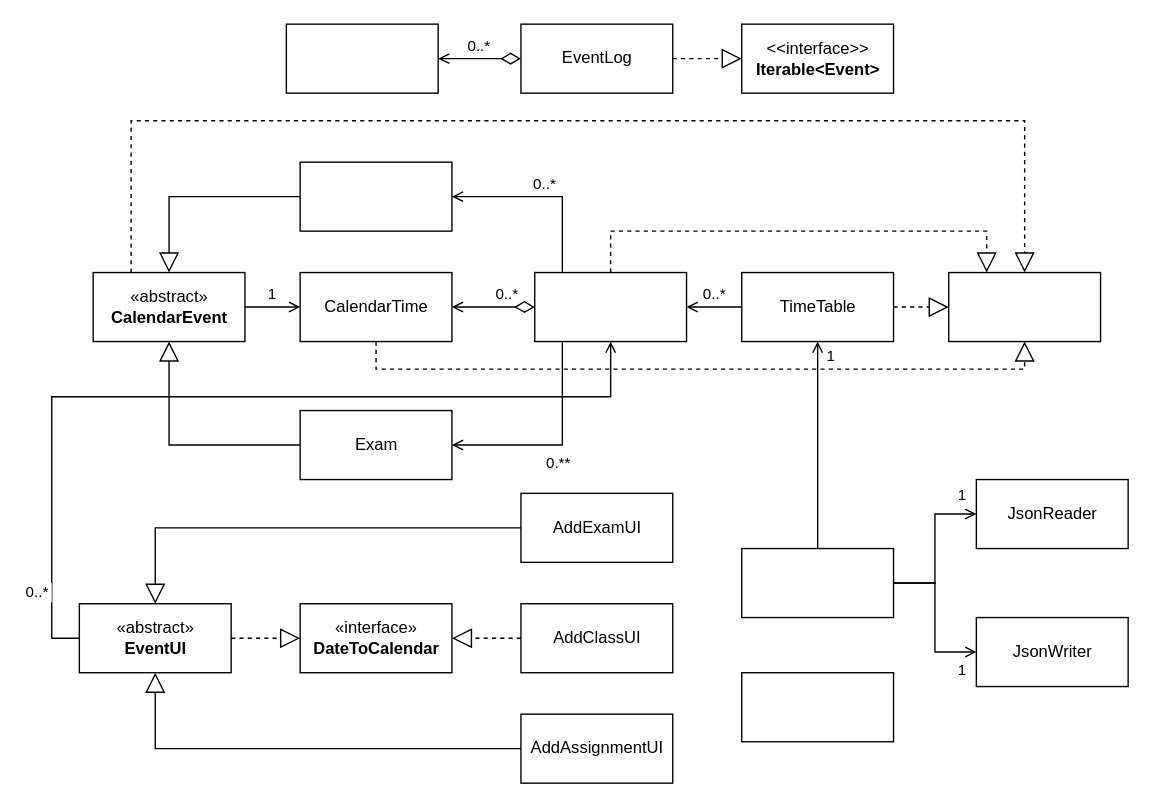
Image size: 1152x807. Some labels were removed from this diagram. Here are the shapes that lost their labels. From the top down, the centre of each, then its label:
the point at 361,58: Event
the point at 375,196: Assignment
the point at 610,306: Class
the point at 1024,306: «interface» Writable
the point at 817,582: StudyMateAppUI
the point at 817,706: Main
